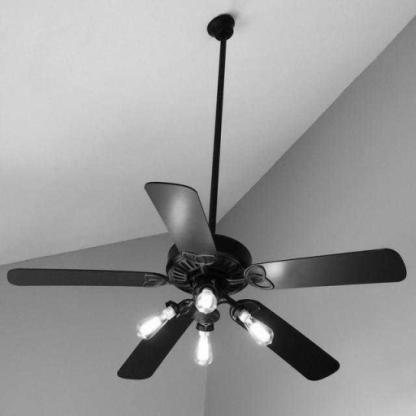ceiling-fan: (5, 11, 409, 382)
